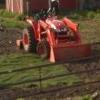Tractor: (13, 7, 95, 64)
